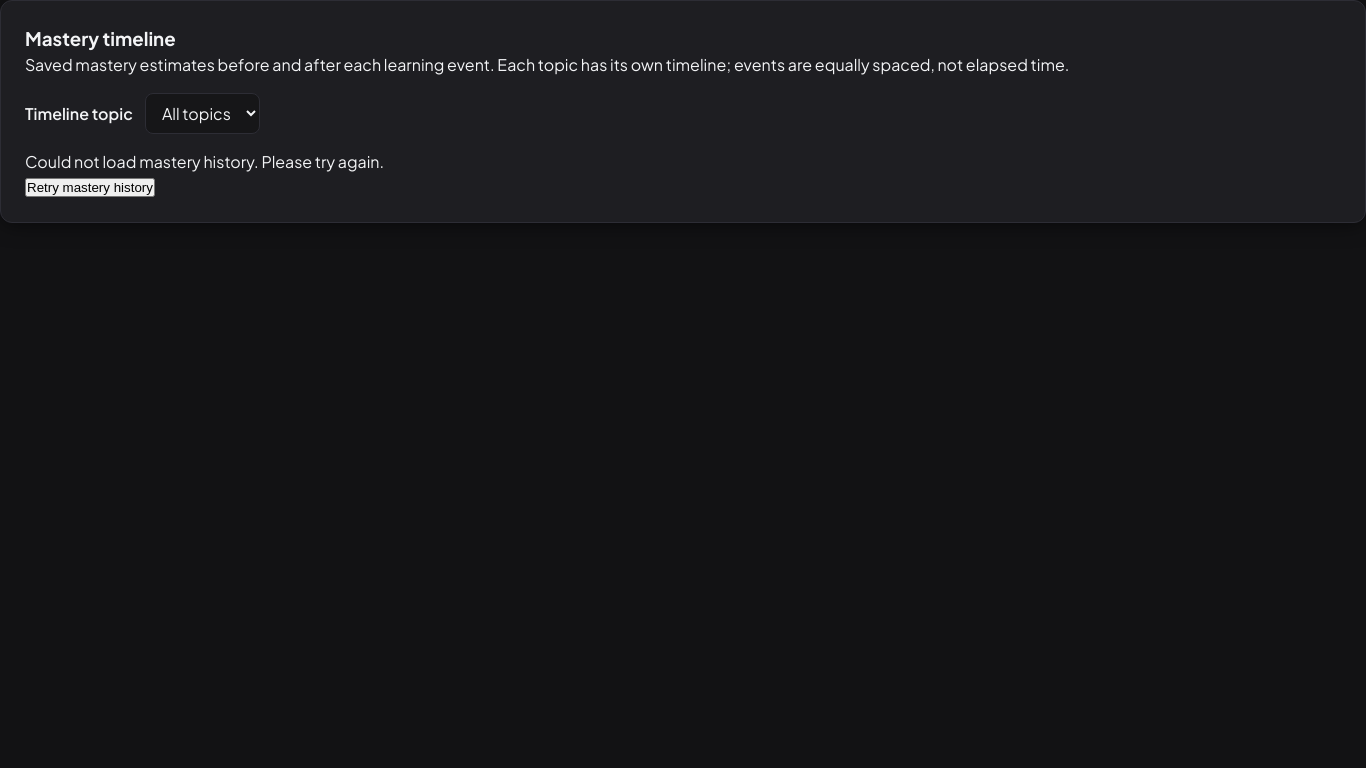
Test: MasteryTimeline › retries request failures
Expected: the message shows "Could not load mastery history", [25,151,384,172]
Click the button "Retry mastery history".
click(90, 188)  # box [25,178,155,197]
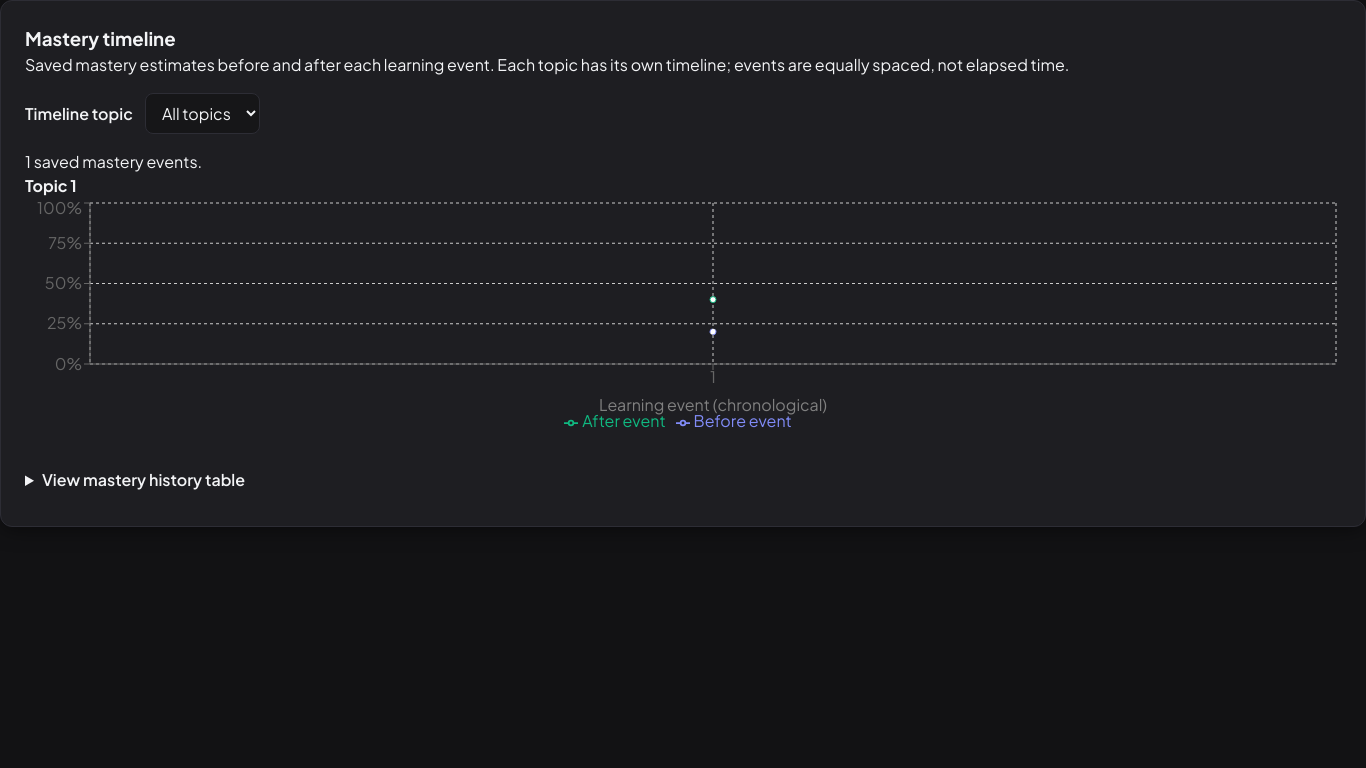
Now the text "1 saved mastery events." is shown, box [25,151,202,172]
